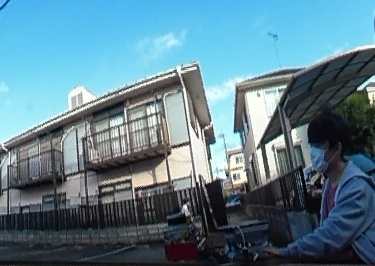person: (284, 112, 375, 266)
